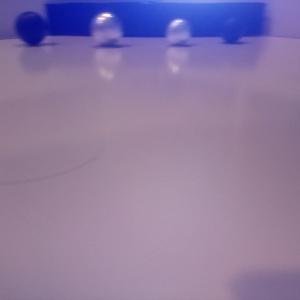alive_ball: (91, 12, 123, 46), (165, 18, 192, 45)
dead_ball: (15, 11, 48, 44), (220, 17, 243, 42)
